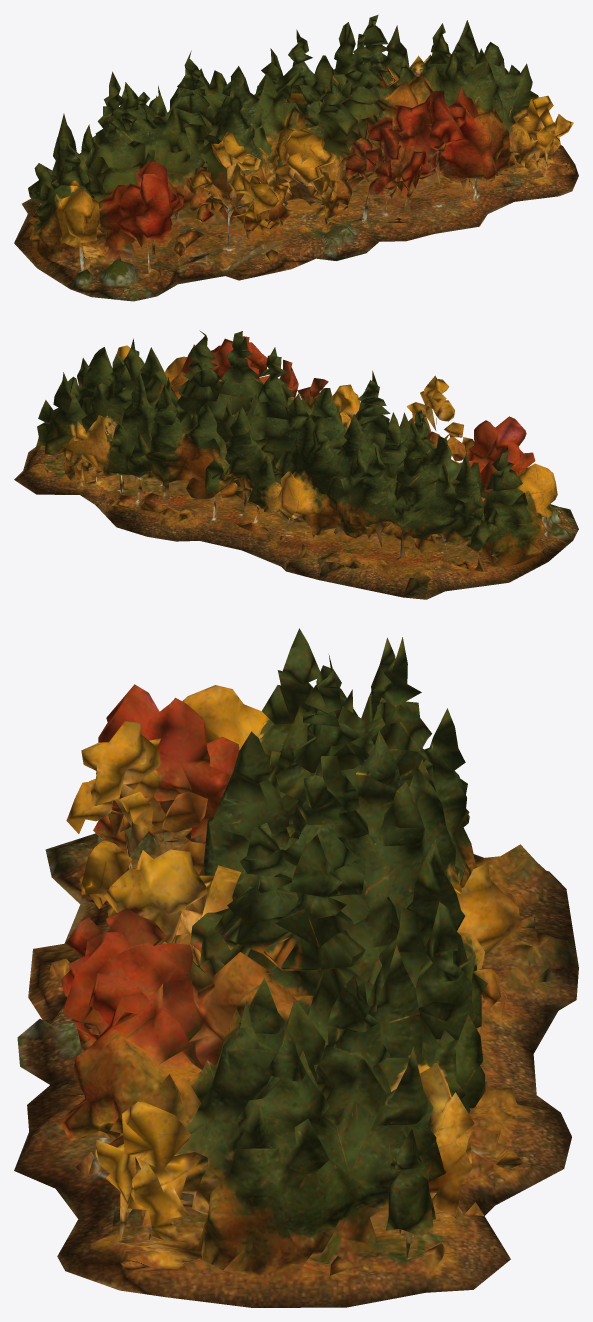
Rendered from city_bolu_forest_row.glb.
3 views of the same model, one above another, from view 1: azimuth 30°, elevation 25°; view 2: azimuth 150°, elevation 25°; view 3: azimuth 270°, elevation 25° (orthographic). The views are drawn at different scales.
Parts seen in each view (by area): view 1: Mesh1.0; view 2: Mesh1.0; view 3: Mesh1.0.
Part boxes in pixels (x1,y1,x2,y2): Mesh1.0: [14, 14, 578, 301]; Mesh1.0: [14, 330, 578, 599]; Mesh1.0: [14, 628, 578, 1307].
Bounding box in the file's own units: 41.9 × 13 × 20.43.
Materials: 1 (1 with a texture image).
